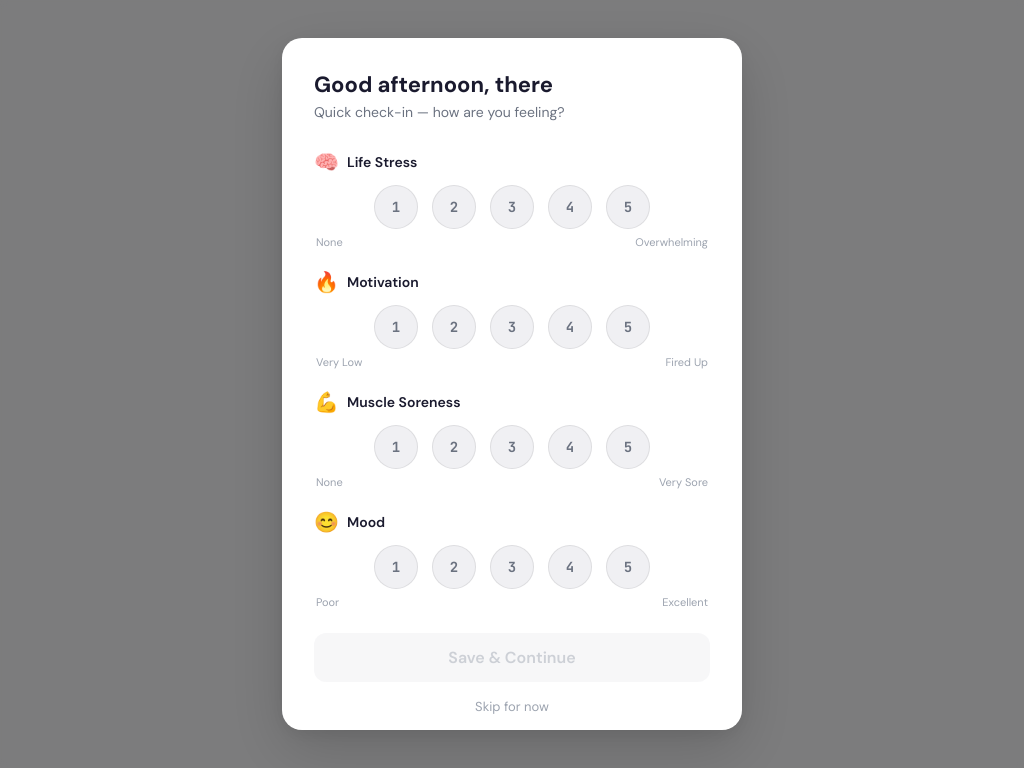
Scenario: CheckInModal › tapping same value toggles it off (deselects)
Step 1. Click the button named "Motivation 4" → point(570, 327), box [548,305,592,349]
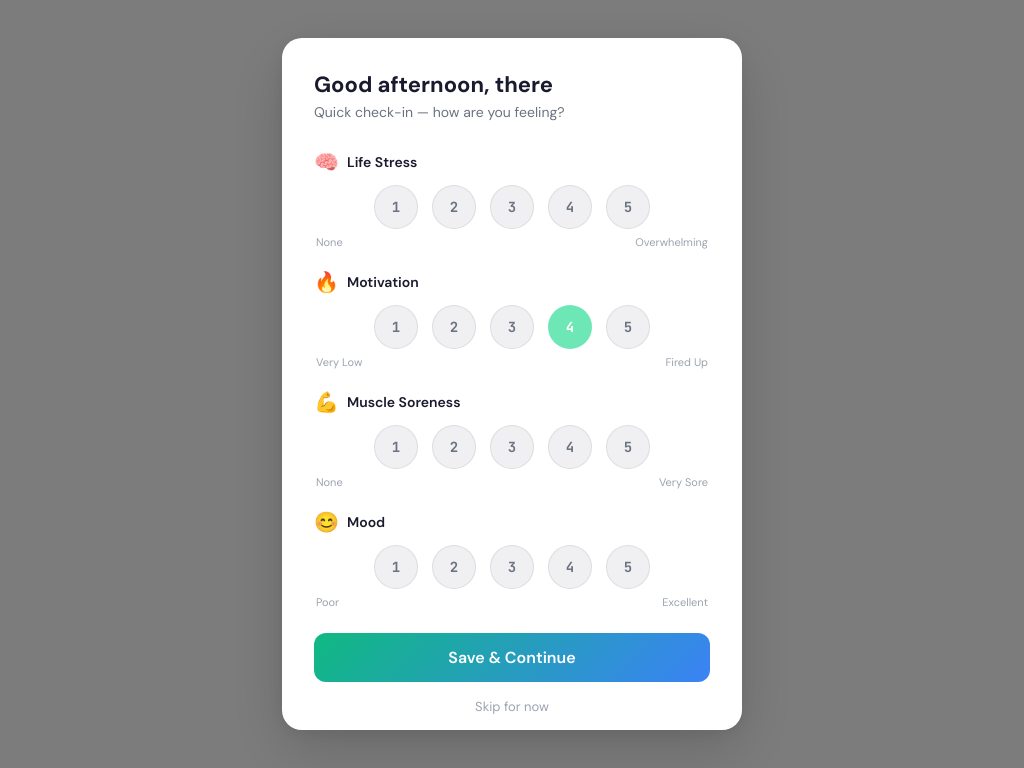
Now the button "Save & Continue" is enabled, box [314,633,710,682]
Step 2. Click the button named "Motivation 4" → point(570, 327), box [548,305,592,349]
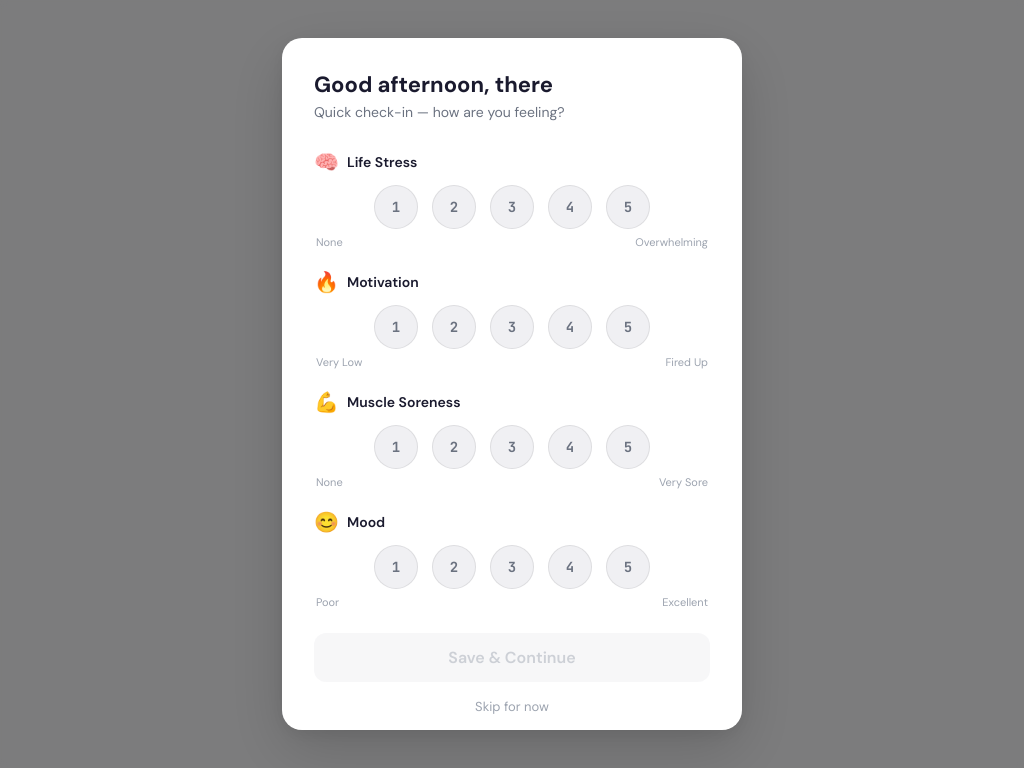
Now the button "Save & Continue" is disabled, box [314,633,710,682]
